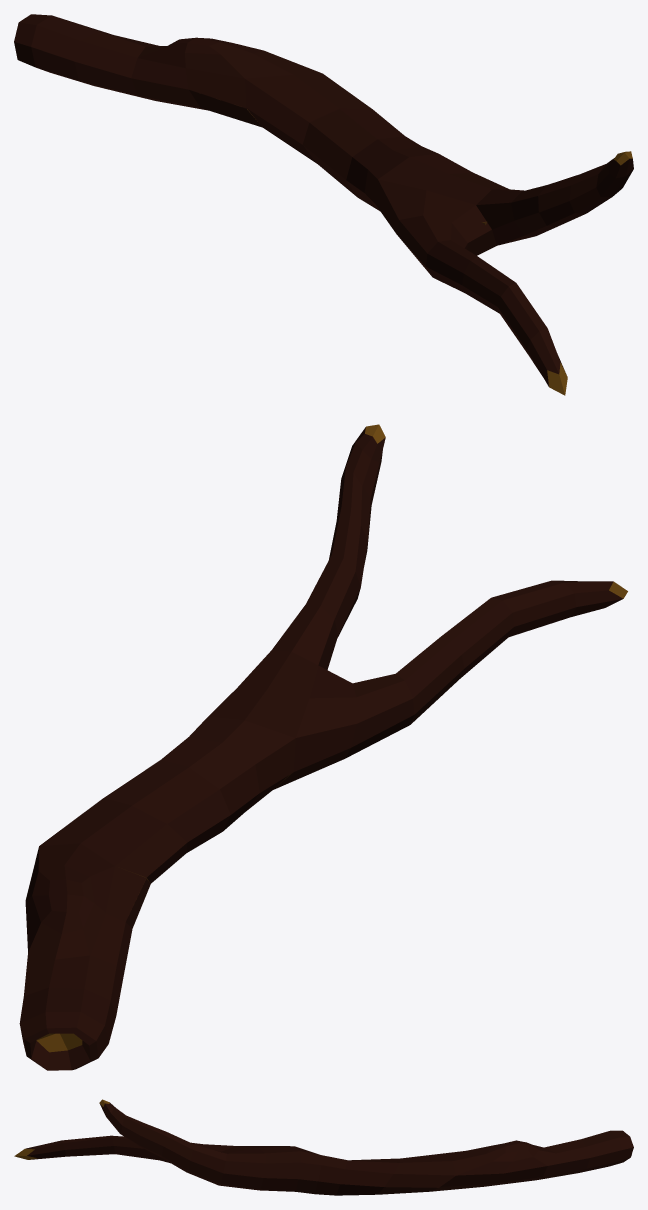
The model's file is Log_04.FBX.
3 views of the same model, one above another, from view 1: azimuth 30°, elevation 25°; view 2: azimuth 150°, elevation 25°; view 3: azimuth 270°, elevation 25° (orthographic). The views are drawn at different scales.
Visible parts, largest first — view 1: Log_04, Log_2; view 2: Log_04, Log_2; view 3: Log_04, Log_2.
Boxes of the visible parts, bbox=[...] form: Log_04: bbox=[14, 14, 633, 395]; Log_2: bbox=[246, 108, 487, 225]; Log_04: bbox=[19, 424, 627, 1070]; Log_2: bbox=[142, 775, 288, 883]; Log_04: bbox=[14, 1099, 633, 1191]; Log_2: bbox=[219, 1173, 437, 1195].
Size of the model in its own units: 4.21 by 3.57 by 18.16.
